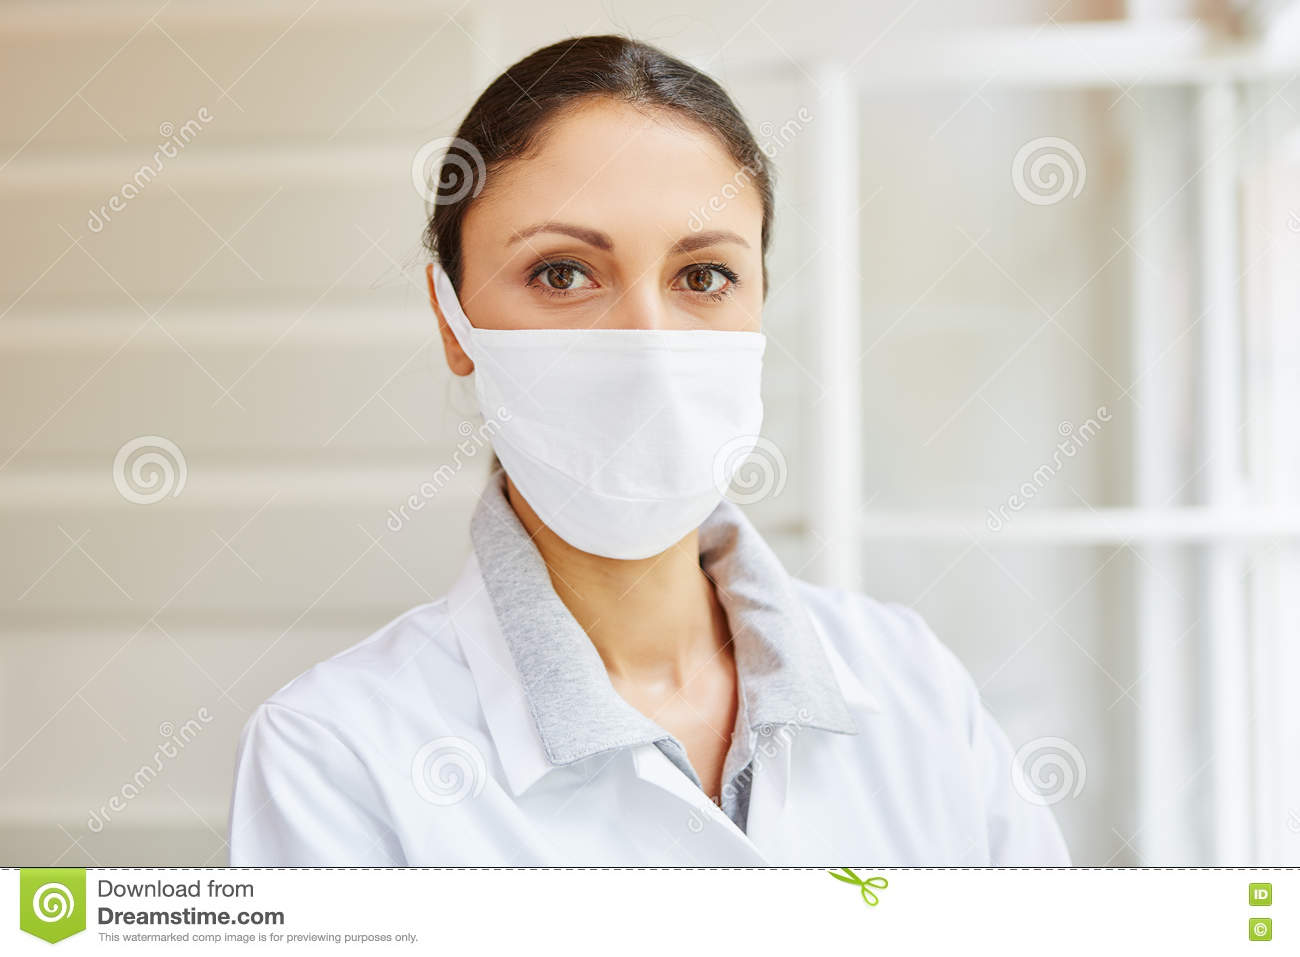mask: (456, 317, 769, 591)
